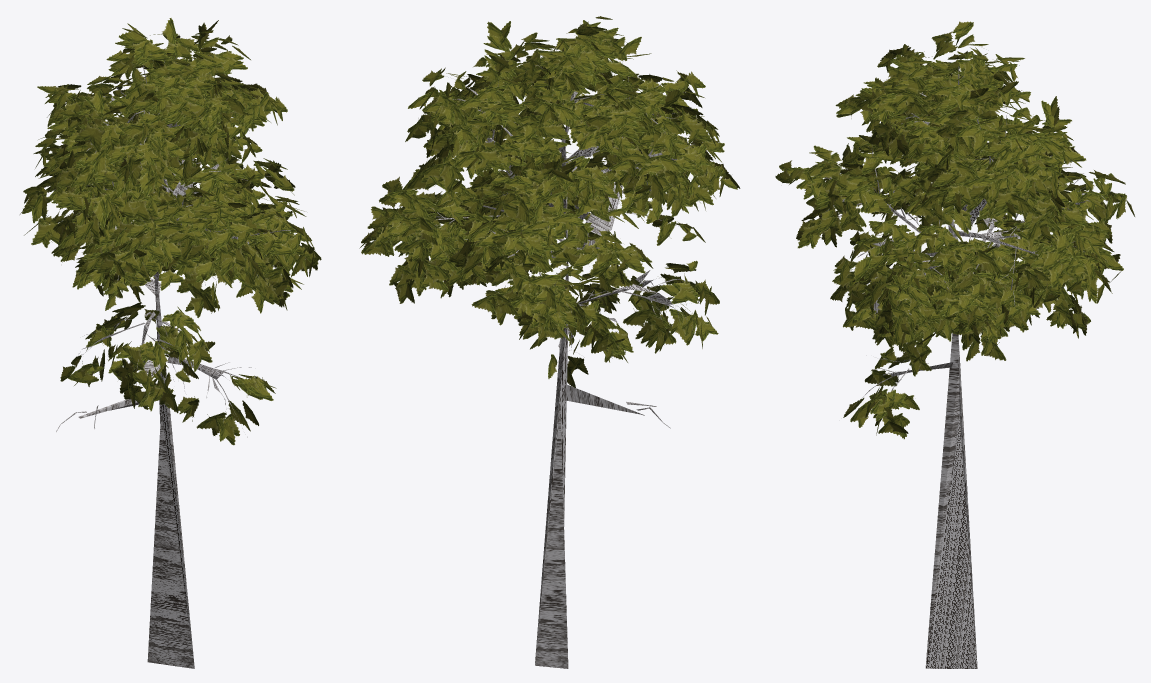
The model's file is tree_aspen_lod1.glb.
3 renders of one model, left to right at view 1: azimuth 30°, elevation 25°; view 2: azimuth 150°, elevation 25°; view 3: azimuth 270°, elevation 25°, orthographic. The views are drawn at different scales.
Parts seen in each view (by area): view 1: aspen2_LOD1; view 2: aspen2_LOD1; view 3: aspen2_LOD1.
Boxes of the visible parts, x1,y1,x2,y2 form: aspen2_LOD1: (20,18,321,668); aspen2_LOD1: (359,16,740,668); aspen2_LOD1: (775,21,1134,668).
Bounding box in the file's own units: 3.84 × 7.53 × 3.94.
Materials: 2 (2 with a texture image).
